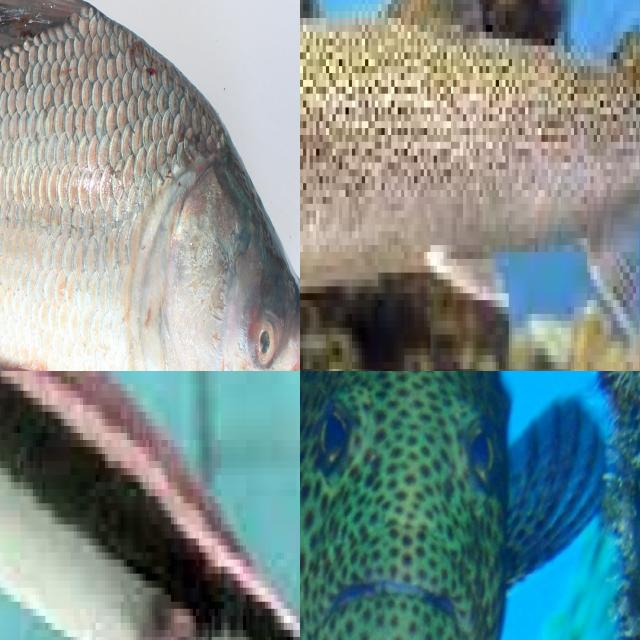fish: (300, 0, 640, 371), (0, 0, 300, 371), (300, 371, 604, 640), (0, 371, 300, 640)
